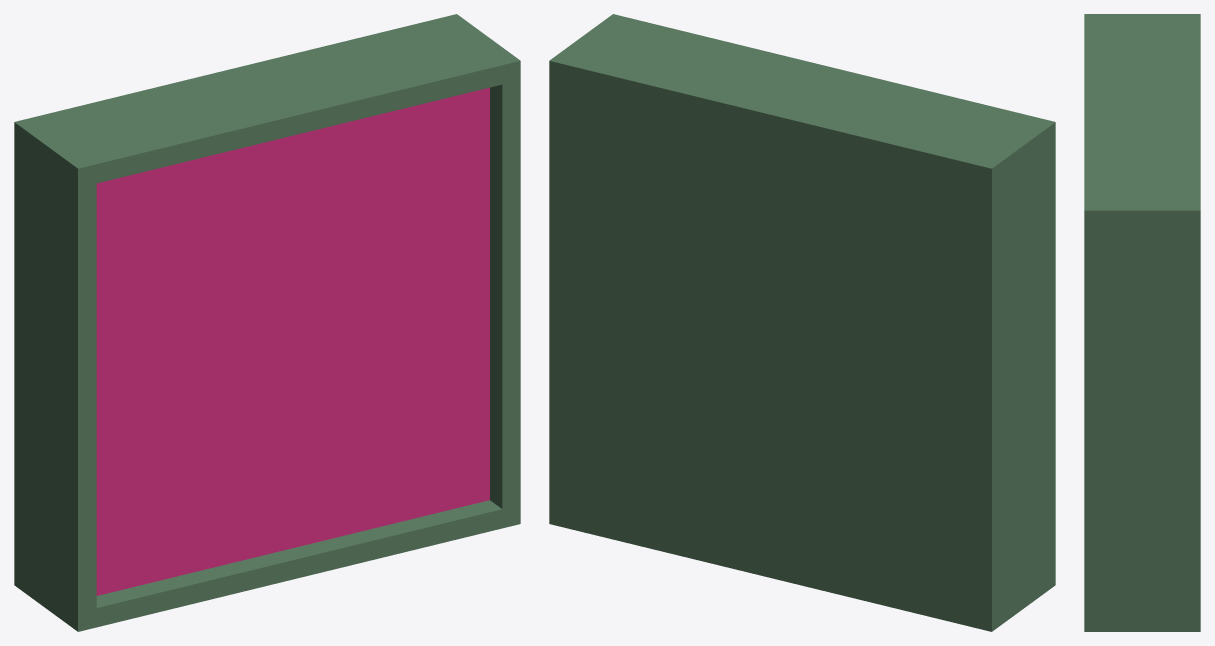
File: Monitor.fbx
3 views of the same model, side by side, from view 1: azimuth 30°, elevation 25°; view 2: azimuth 150°, elevation 25°; view 3: azimuth 270°, elevation 25° (orthographic). The views are drawn at different scales.
Visible parts, largest first — view 1: Display, Box; view 2: Box; view 3: Box.
Boxes of the visible parts, left/top/right/bottom form: Display: left=96, top=87, right=489, bottom=595; Box: left=14, top=14, right=520, bottom=631; Box: left=549, top=14, right=1055, bottom=631; Box: left=1084, top=14, right=1200, bottom=631.
Bounding box in the file's own units: 4 × 4 × 1.
